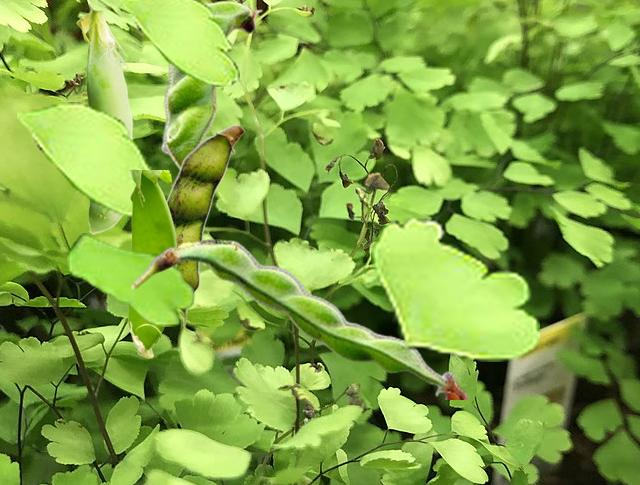pea: (131, 239, 468, 398), (160, 0, 262, 171), (167, 124, 244, 325), (76, 3, 132, 233), (128, 170, 175, 357)
